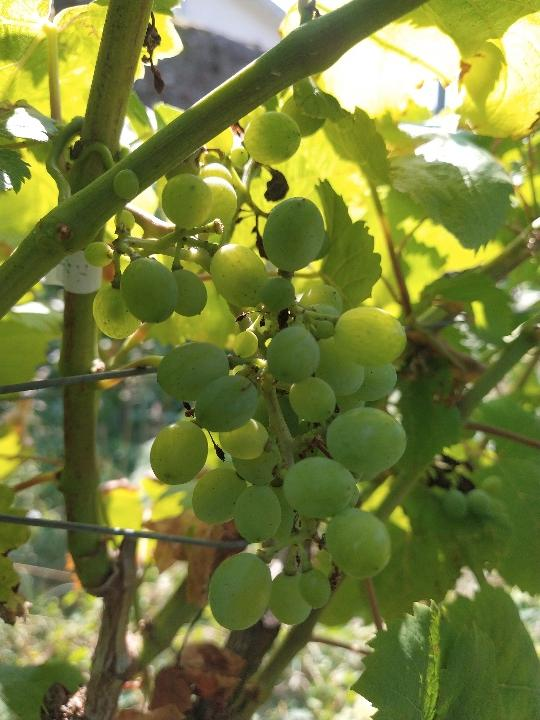grape: (90, 92, 410, 635)
